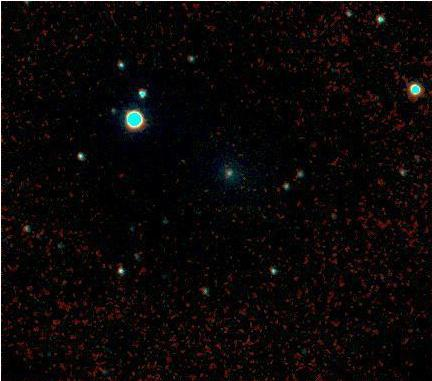star: (156, 292, 186, 322)
